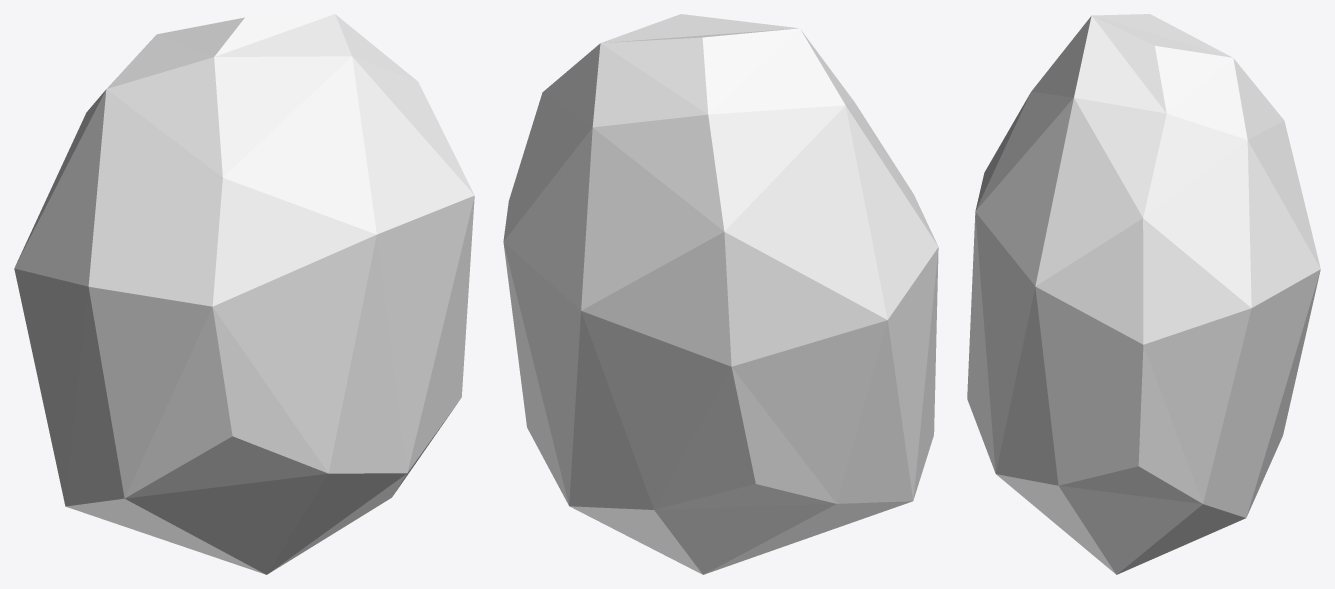
The model's file is cloud_04.fbx.
3 views of the same model, side by side, from view 1: azimuth 30°, elevation 25°; view 2: azimuth 150°, elevation 25°; view 3: azimuth 270°, elevation 25° (orthographic). The views are drawn at different scales.
Parts seen in each view (by area): view 1: cloud_04; view 2: cloud_04; view 3: cloud_04.
Part boxes in pixels (box(x1,y1,x2,y2)): cloud_04: box(14, 14, 474, 574); cloud_04: box(503, 14, 938, 574); cloud_04: box(967, 14, 1320, 574).
Size of the model in its own units: 211 by 258 by 166.
Materials: 1 (1 with a texture image).
